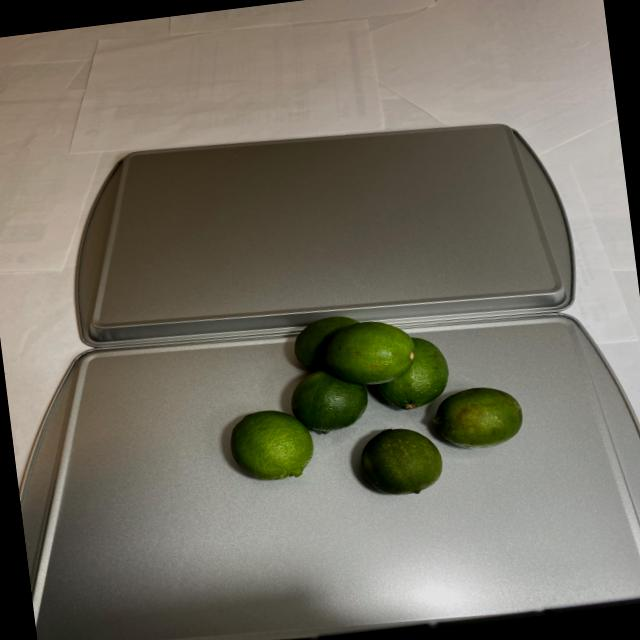lemon: (212, 294, 536, 521)
